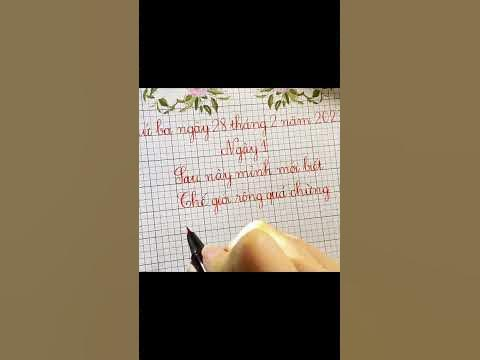text: (136, 109, 336, 143), (177, 179, 333, 218), (172, 157, 326, 189), (217, 135, 268, 166)
